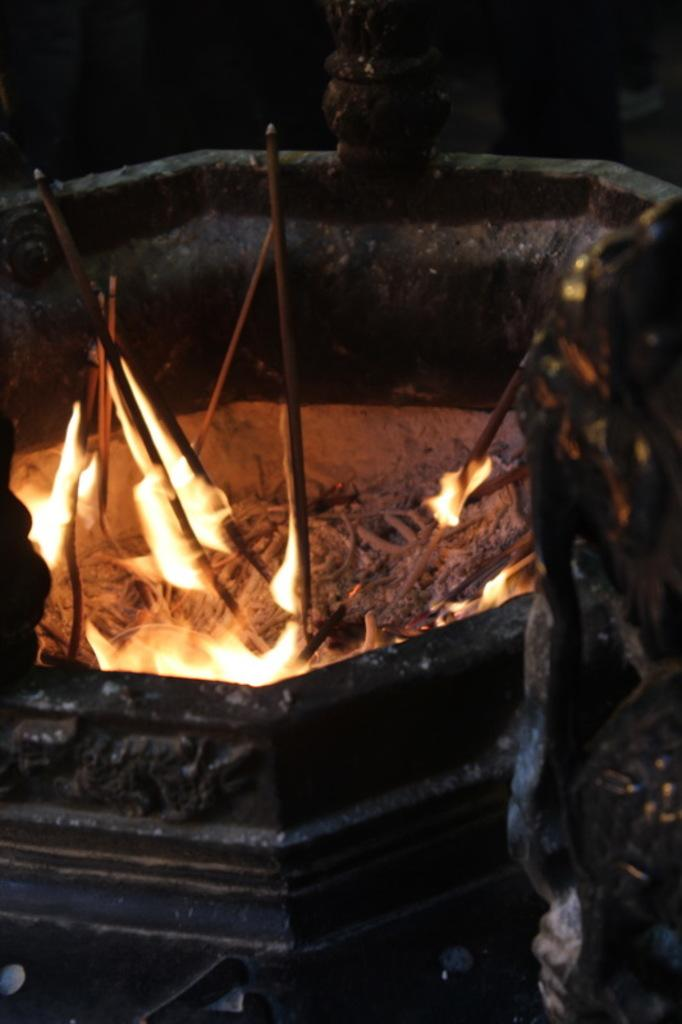Fire: (3, 302, 559, 679)
